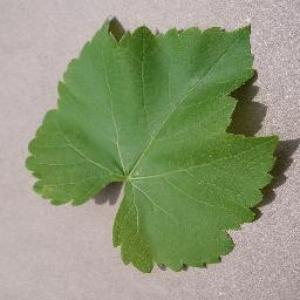Folha: (25, 15, 279, 273)
